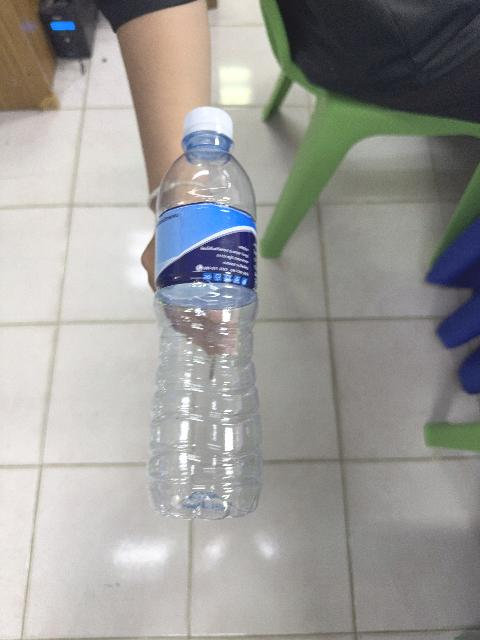bottle: (148, 107, 262, 519)
